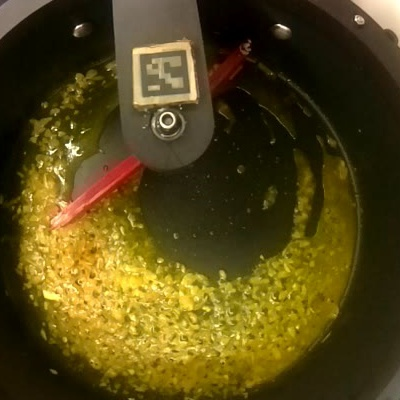stirrer: (115, 1, 221, 172)
